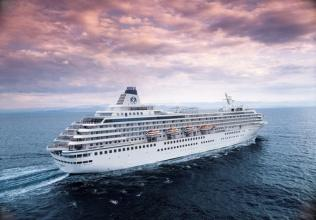youlun: (45, 86, 268, 175)
